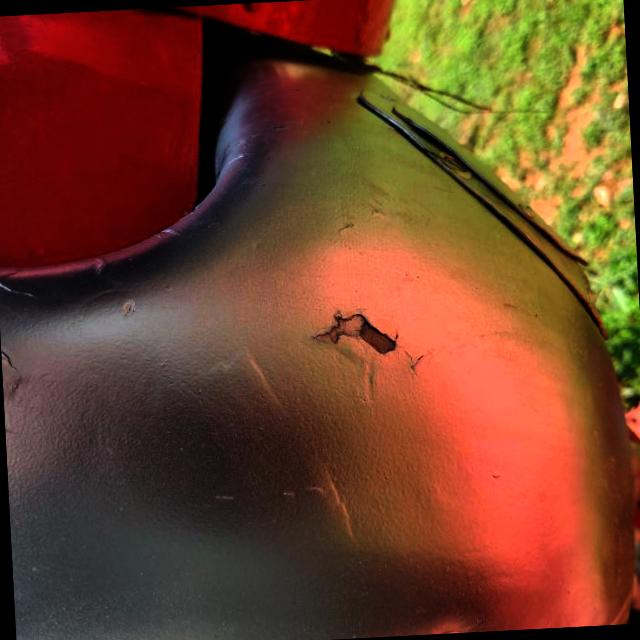paint-off: (274, 309, 346, 408)
